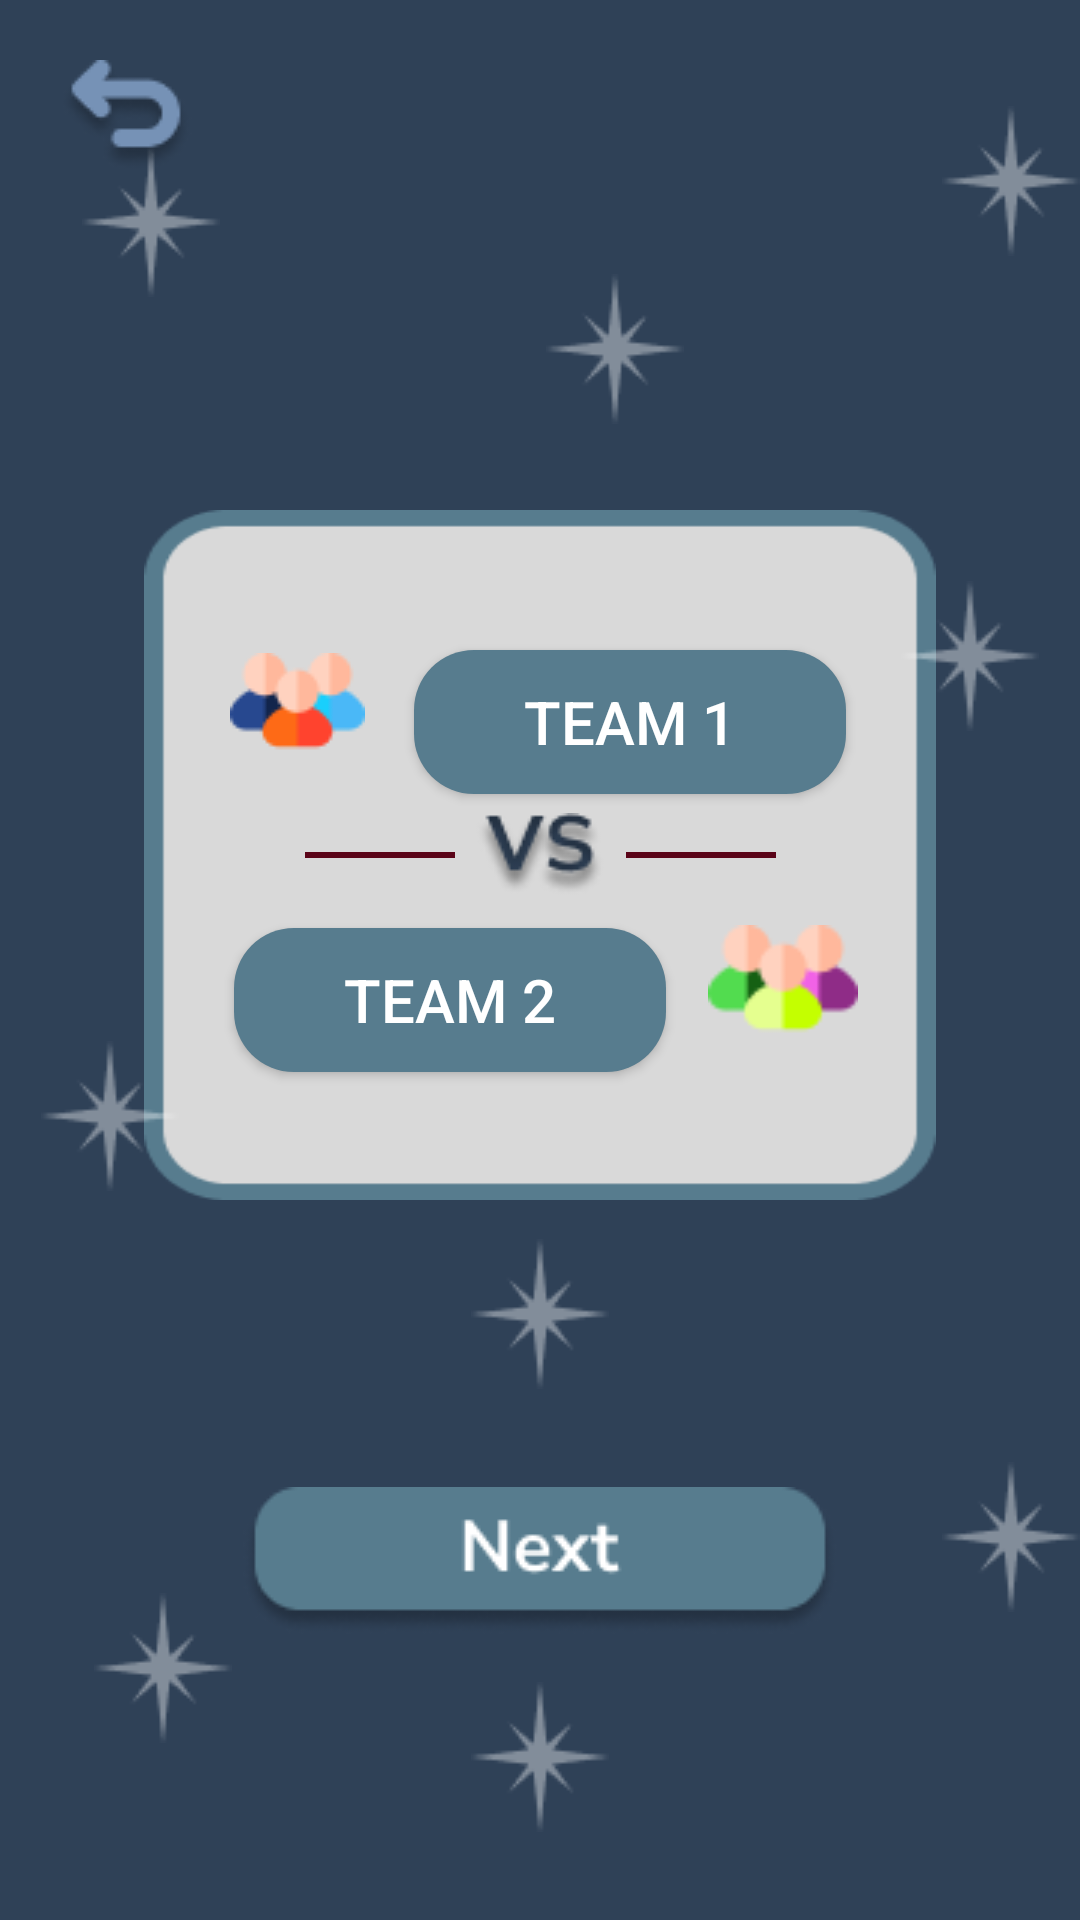

Where icons sit on this 1080×1920 app screen, as region(x1, y1, x2, y2):
back: region(71, 60, 181, 147)
